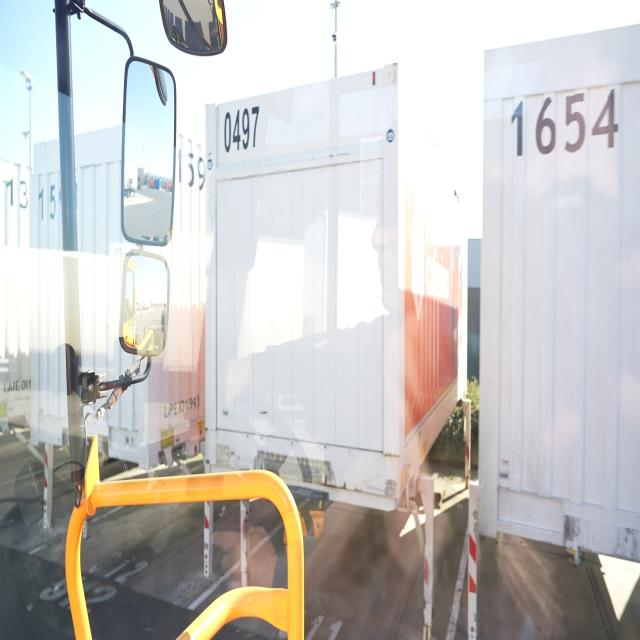Code: (508, 87, 621, 160), (224, 101, 259, 155)
